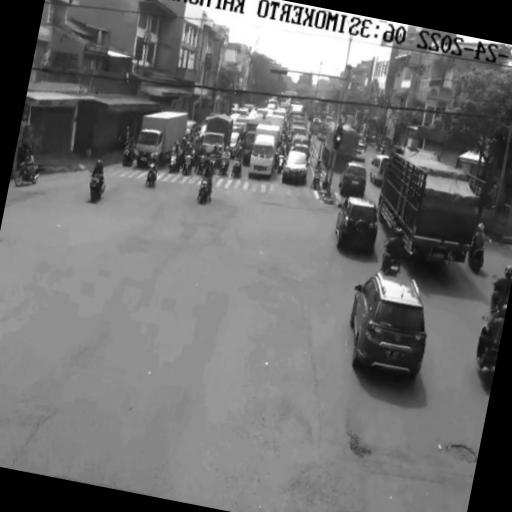motorcycle: (9, 156, 46, 192), (476, 316, 499, 370), (13, 162, 39, 186), (140, 170, 164, 190), (380, 252, 400, 276), (490, 289, 508, 314), (196, 178, 212, 206), (89, 175, 105, 202), (467, 248, 483, 273), (145, 162, 160, 188), (490, 294, 507, 313), (121, 146, 136, 166), (195, 156, 206, 175), (182, 155, 192, 175), (168, 152, 177, 173), (228, 132, 238, 149), (219, 158, 229, 175), (310, 172, 320, 189), (231, 162, 241, 178), (276, 155, 284, 174), (185, 120, 195, 132)
truck: (377, 150, 483, 262), (129, 106, 188, 172), (135, 111, 186, 166), (246, 120, 282, 184), (334, 126, 358, 169), (205, 114, 232, 147), (255, 124, 280, 144), (289, 103, 303, 116)
